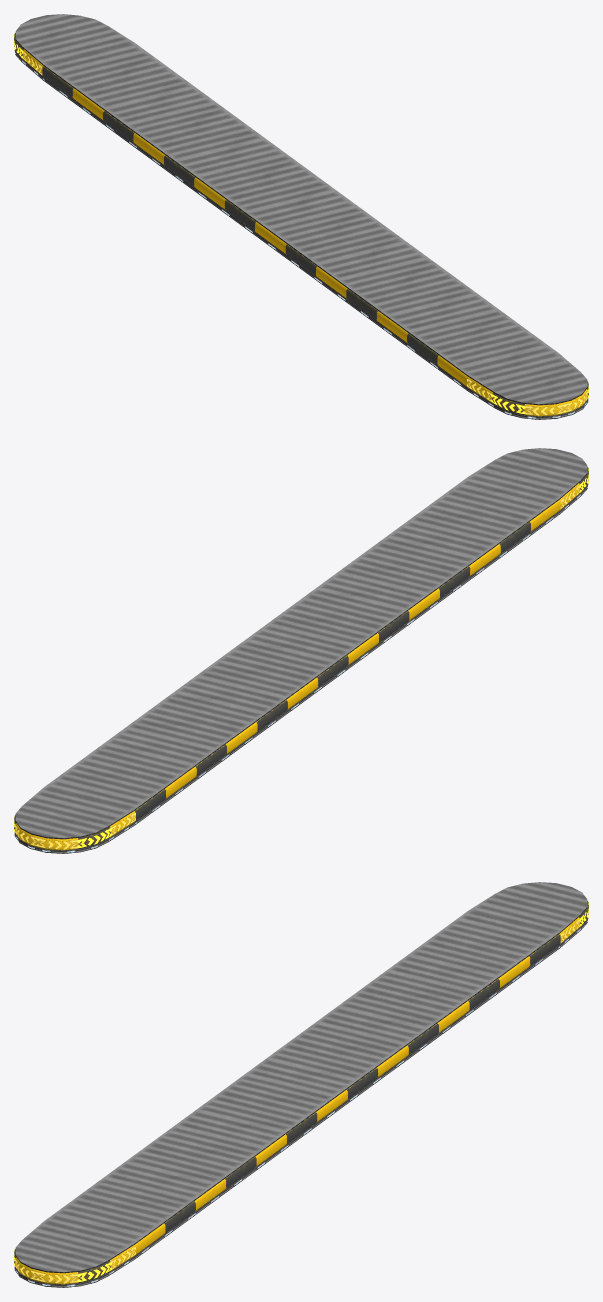
Rendered from obs_tunnel_barrier.fbx.
3 renders of one model, top to bottom at view 1: azimuth 30°, elevation 25°; view 2: azimuth 150°, elevation 25°; view 3: azimuth 330°, elevation 25°, orthographic.
Visible parts, largest first — view 1: barriermesh; view 2: barriermesh; view 3: barriermesh.
Boxes of the visible parts, <box> form: barriermesh: <box>14,14,588,419</box>; barriermesh: <box>14,448,588,853</box>; barriermesh: <box>14,882,588,1287</box>.
Size of the model in its own units: 813 by 127 by 7933.
